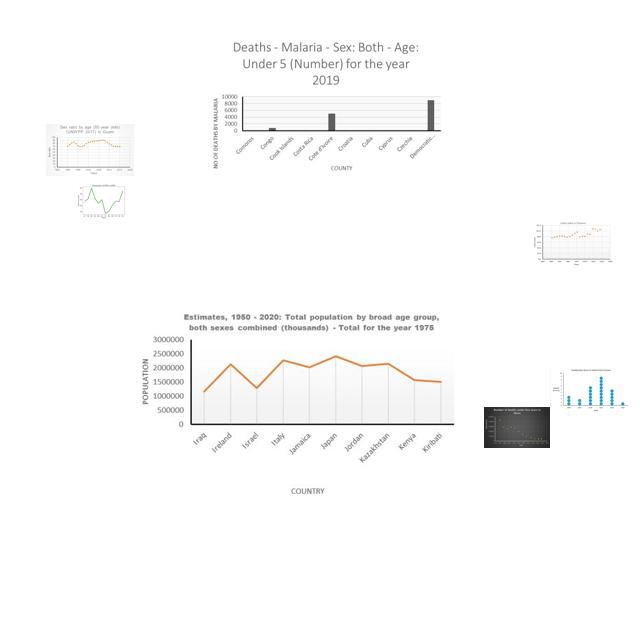Graph: (136, 307, 460, 498), (206, 36, 446, 177), (46, 124, 134, 176), (550, 367, 630, 414), (533, 221, 613, 266), (484, 407, 550, 448), (76, 180, 130, 221)
